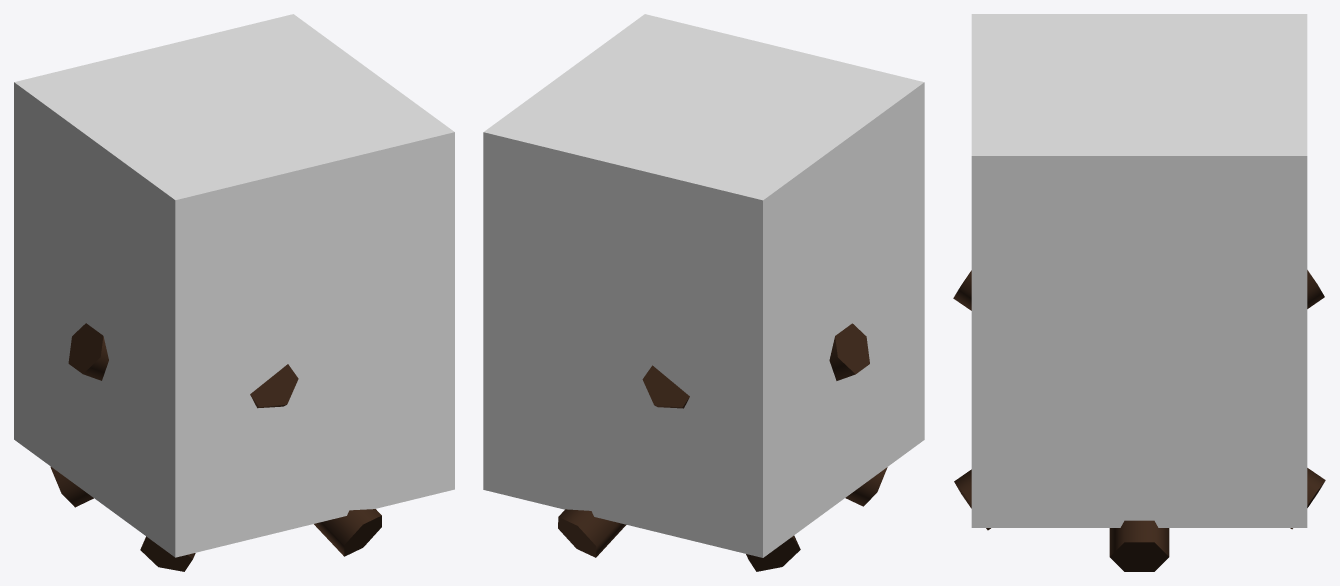
File: leto-fire.glb
The picture shows the model from 3 angles, left to right: view 1: azimuth 30°, elevation 25°; view 2: azimuth 150°, elevation 25°; view 3: azimuth 270°, elevation 25°; orthographic projection. The views are drawn at different scales.
Parts seen in each view (by area): view 1: solid, 00_#3a2416_noshadow_r320; view 2: solid, 00_#3a2416_noshadow_r320; view 3: solid, 00_#3a2416_noshadow_r320.
Boxes of the visible parts, x1,y1,x2,y2 form: solid: (14,14,454,557); 00_#3a2416_noshadow_r320: (50,323,381,571); solid: (483,14,924,557); 00_#3a2416_noshadow_r320: (558,323,887,571); solid: (971,14,1307,527); 00_#3a2416_noshadow_r320: (953,270,1325,571).
Bounding box in the file's own units: 2.05 × 2.47 × 2.
